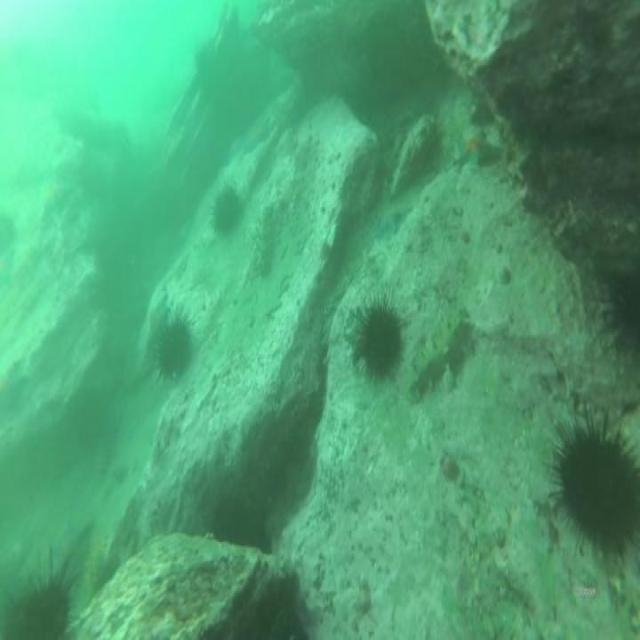echinus: (562, 428, 640, 552), (358, 304, 399, 379), (29, 580, 70, 640), (155, 321, 193, 379), (211, 185, 241, 234)
holothurian: (411, 308, 469, 402), (253, 205, 275, 275)
starfish: (456, 134, 500, 171), (375, 204, 406, 238)
